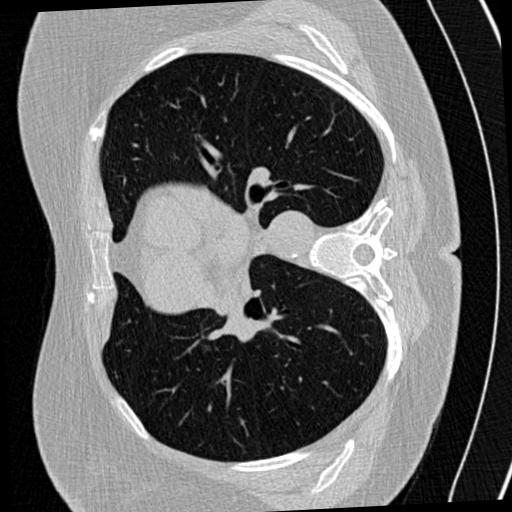nodule: (200, 343, 213, 356)
